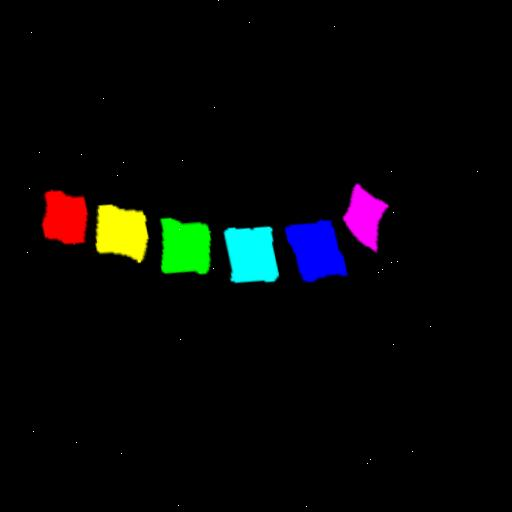L1: (39, 188, 84, 241)
L2: (93, 201, 145, 259)
L3: (157, 214, 207, 270)
L4: (221, 220, 276, 276)
L5: (282, 213, 343, 274)
S1: (341, 176, 385, 244)
